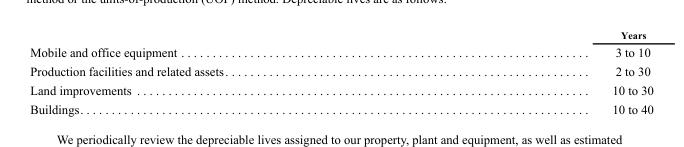table: (29, 28, 652, 115)
table column: (29, 28, 419, 115), (419, 28, 652, 115)
table column header: (29, 28, 652, 42)
table row: (29, 42, 652, 61), (29, 61, 652, 80), (29, 80, 652, 99), (29, 99, 652, 115), (29, 28, 652, 42)
